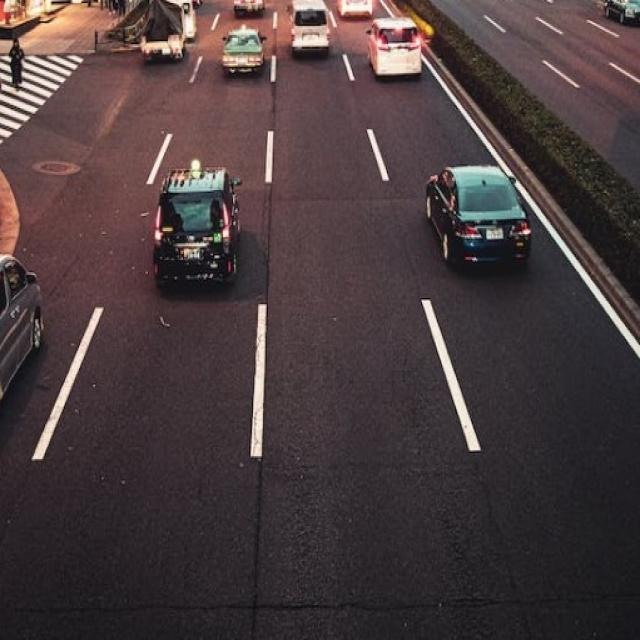car: (424, 161, 533, 270), (154, 166, 242, 284), (0, 252, 44, 404), (366, 17, 422, 78), (142, 0, 196, 60), (284, 0, 330, 53), (221, 28, 265, 72), (338, 0, 373, 18)
